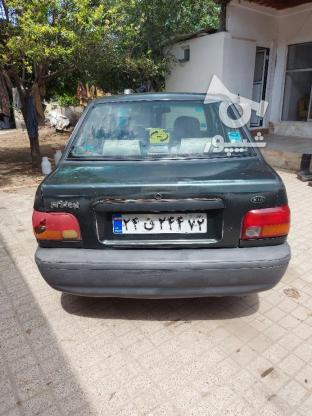car: (113, 213, 209, 234)
